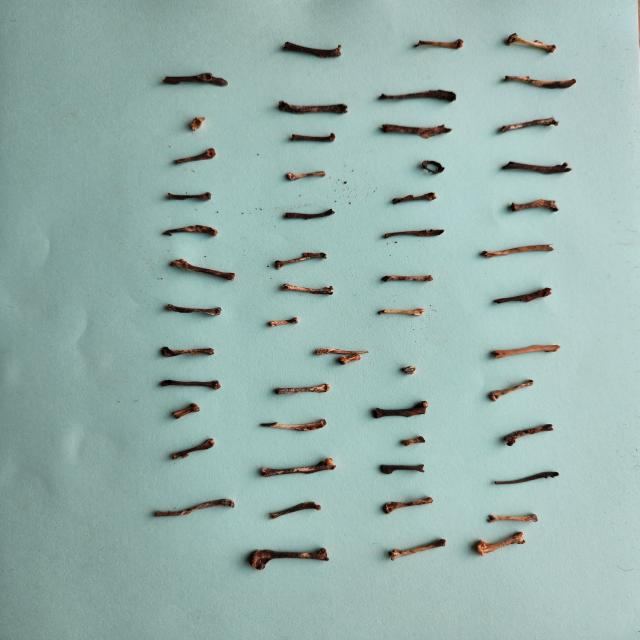fossil: (240, 542, 333, 572), (256, 456, 341, 482), (150, 497, 239, 521), (485, 285, 571, 308), (500, 70, 582, 94), (163, 257, 240, 282), (384, 536, 454, 562), (471, 530, 533, 558), (378, 120, 456, 142), (497, 156, 574, 178), (500, 420, 560, 448), (279, 38, 346, 62), (498, 30, 562, 55), (484, 341, 566, 360), (477, 242, 562, 260), (257, 416, 332, 436), (368, 399, 433, 422), (375, 87, 462, 104), (492, 468, 565, 488), (265, 498, 324, 522), (494, 115, 564, 135), (168, 436, 218, 464), (160, 70, 233, 89), (274, 99, 351, 117), (485, 378, 540, 403), (269, 250, 333, 270), (378, 495, 440, 515), (170, 145, 221, 169), (378, 226, 450, 243), (271, 381, 336, 398), (411, 34, 466, 53), (483, 509, 544, 526), (279, 280, 335, 298), (162, 302, 224, 318), (281, 207, 339, 224), (158, 377, 225, 391), (160, 223, 222, 238), (374, 460, 432, 476), (508, 197, 562, 214), (157, 344, 218, 359), (311, 344, 375, 358), (388, 190, 439, 207), (163, 189, 215, 205), (379, 272, 438, 286), (287, 132, 345, 146), (168, 401, 203, 422), (282, 168, 328, 183), (375, 306, 432, 318), (185, 115, 211, 134), (419, 158, 448, 175), (266, 316, 302, 329), (333, 353, 366, 366), (399, 435, 429, 448), (398, 363, 422, 376)
